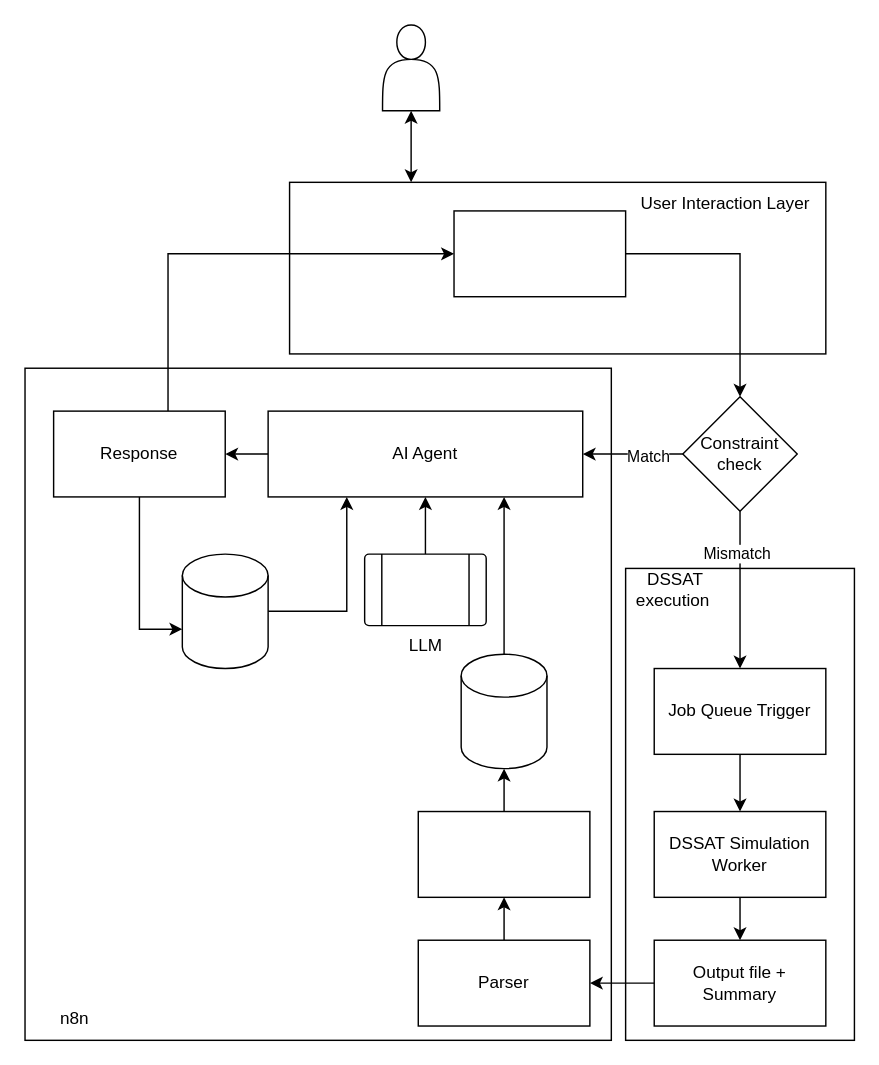
Image size: 879x1065. Some labels were removed from this diagram. The shapes that lost their labels are listed below. From the top down, each one's centre as x and y in pixels, then its label:
pixel 539 253: Chat Trigger
pixel 224 611: Context History
pixel 503 711: Vector DB
pixel 503 853: Embedding
